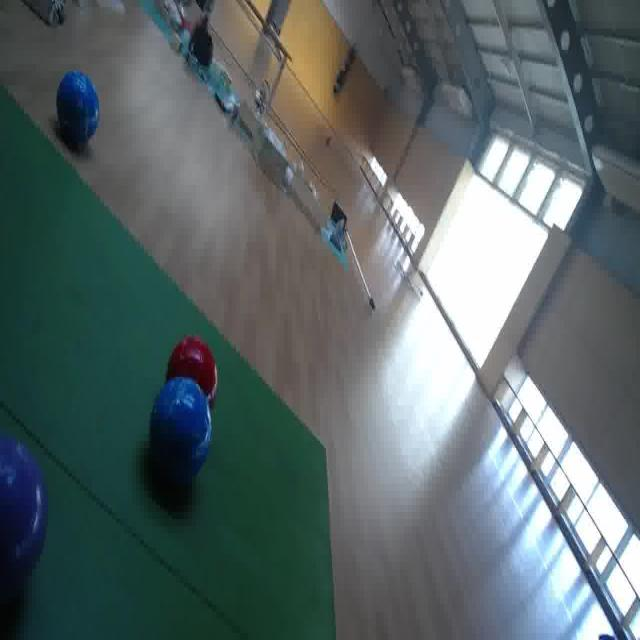blue_ball: (147, 377, 216, 493), (54, 69, 102, 152)
purple_ball: (0, 426, 50, 590)
red_ball: (165, 334, 215, 412)
